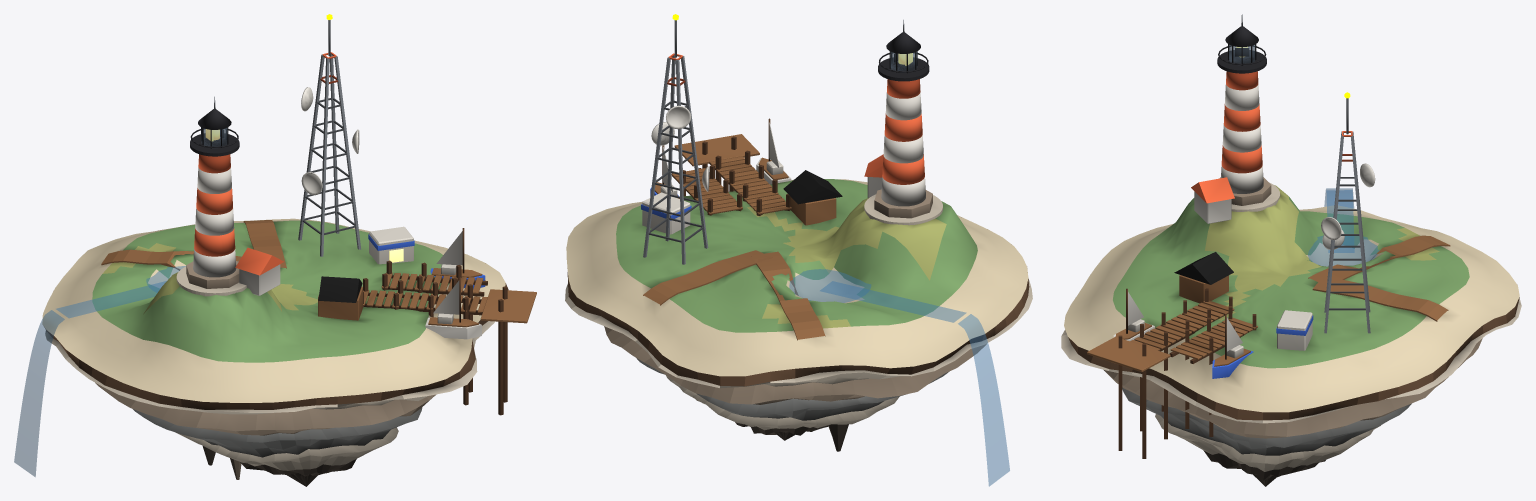
Rendered from contact_lod1.glb.
The picture shows the model from 3 angles, left to right: view 1: azimuth 30°, elevation 25°; view 2: azimuth 150°, elevation 25°; view 3: azimuth 270°, elevation 25°; orthographic projection. The views are drawn at different scales.
Parts seen in each view (by area): view 1: terrain, buildings, foundation, props, waterfall_0, anim_bob_boat0, water_channel0, anim_bob_boat1, landmarks; view 2: terrain, foundation, buildings, props, waterfall_0, water_pond0, water_channel0, landmarks, anim_bob_boat0; view 3: terrain, foundation, buildings, props, water_pond0, anim_bob_boat1, water_channel0, landmarks, anim_bob_boat0.
Boxes of the visible parts, bbox=[...] form: terrain: bbox=[42, 218, 505, 402]; buildings: bbox=[186, 20, 507, 415]; foundation: bbox=[44, 283, 508, 486]; props: bbox=[190, 14, 536, 323]; waterfall_0: bbox=[14, 310, 64, 476]; anim_bob_boat0: bbox=[425, 277, 481, 339]; water_channel0: bbox=[56, 281, 166, 318]; anim_bob_boat1: bbox=[430, 228, 485, 288]; landmarks: bbox=[301, 87, 359, 195]; terrain: bbox=[566, 179, 1028, 376]; foundation: bbox=[565, 272, 1032, 451]; buildings: bbox=[641, 19, 932, 264]; props: bbox=[671, 14, 928, 214]; waterfall_0: bbox=[958, 314, 1009, 486]; water_pond0: bbox=[789, 269, 871, 302]; water_channel0: bbox=[820, 281, 966, 322]; landmarks: bbox=[651, 105, 709, 191]; anim_bob_boat0: bbox=[756, 118, 791, 184]; terrain: bbox=[1064, 182, 1519, 412]; foundation: bbox=[1061, 297, 1521, 486]; buildings: bbox=[1118, 14, 1370, 458]; props: bbox=[1087, 45, 1350, 371]; water_pond0: bbox=[1308, 236, 1379, 266]; anim_bob_boat1: bbox=[1212, 314, 1253, 378]; water_channel0: bbox=[1326, 190, 1354, 252]; landmarks: bbox=[1321, 163, 1375, 249]; anim_bob_boat0: bbox=[1113, 288, 1154, 341].
Bounding box in the file's own units: 17.26 × 16.07 × 15.75.
